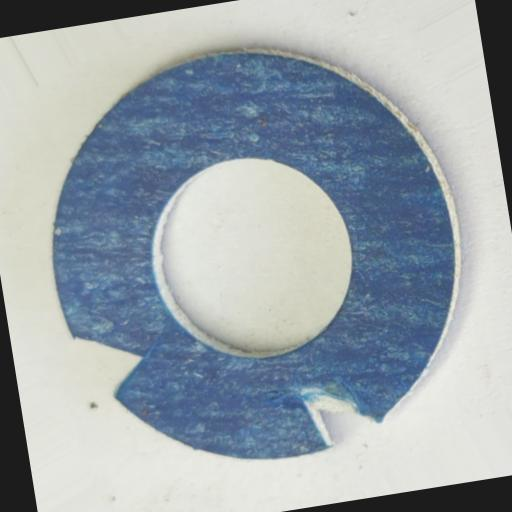defect: (68, 320, 158, 406), (294, 372, 382, 453)
